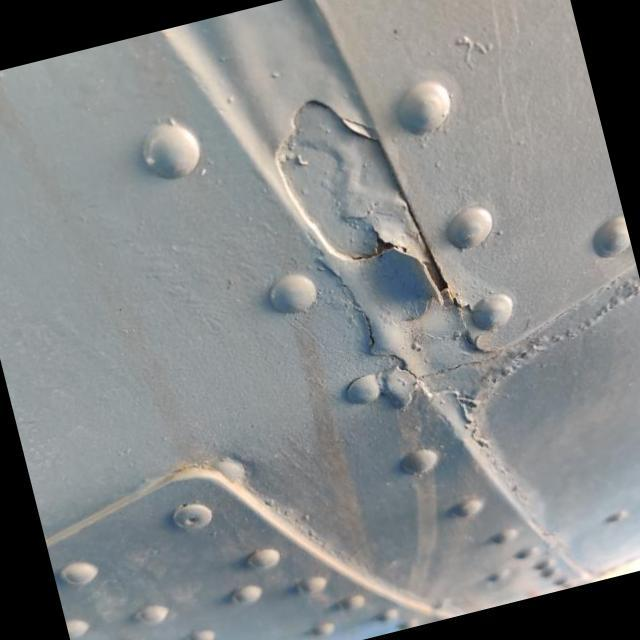Rupture: (338, 202, 487, 356)
